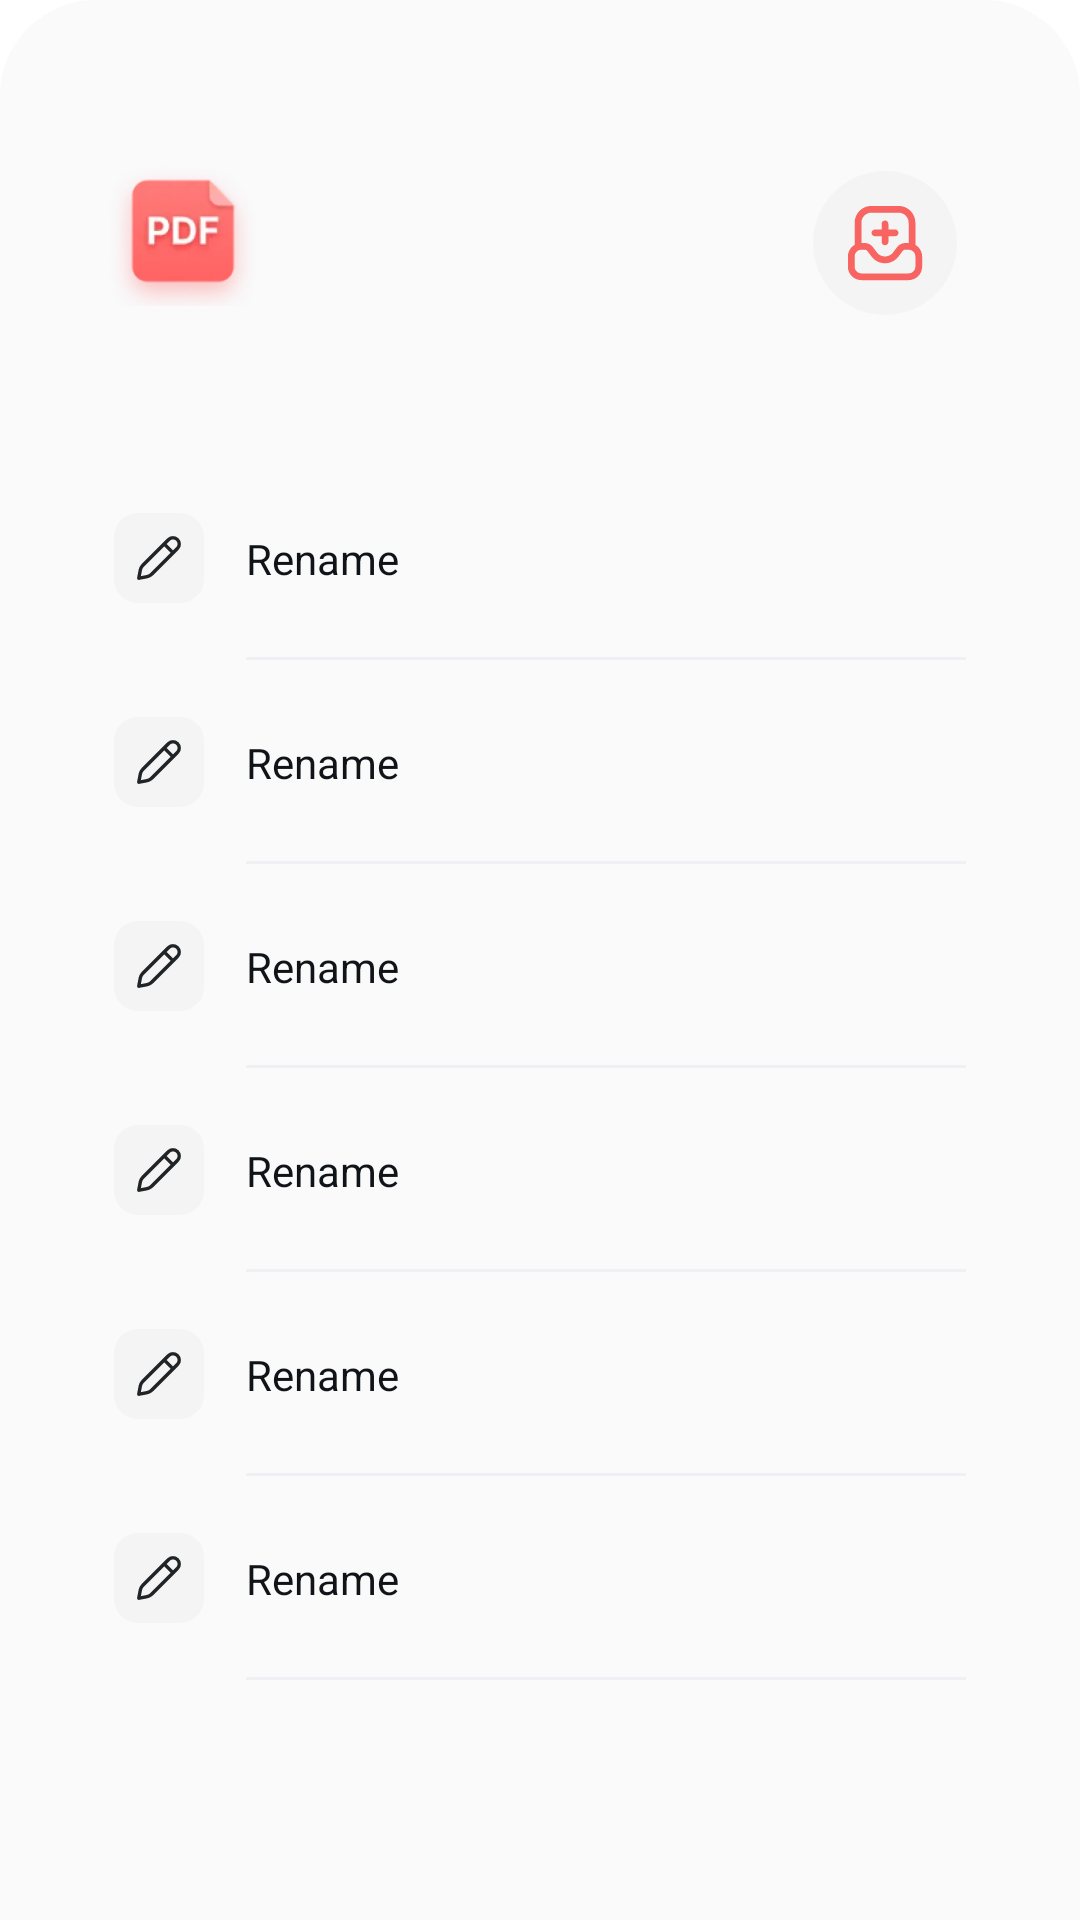

Screen size 1080px×1920px. Icon name, then its box in pixels as (x1, y1, x2, y2):
add collect: (848, 206, 923, 281)
